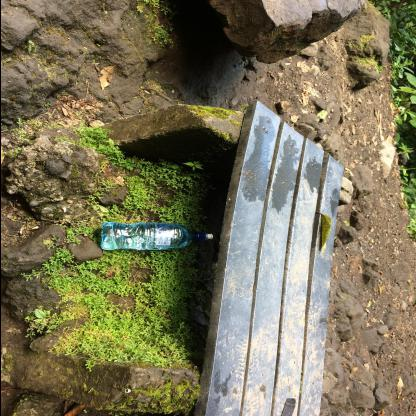plastik: (100, 222, 214, 250)
